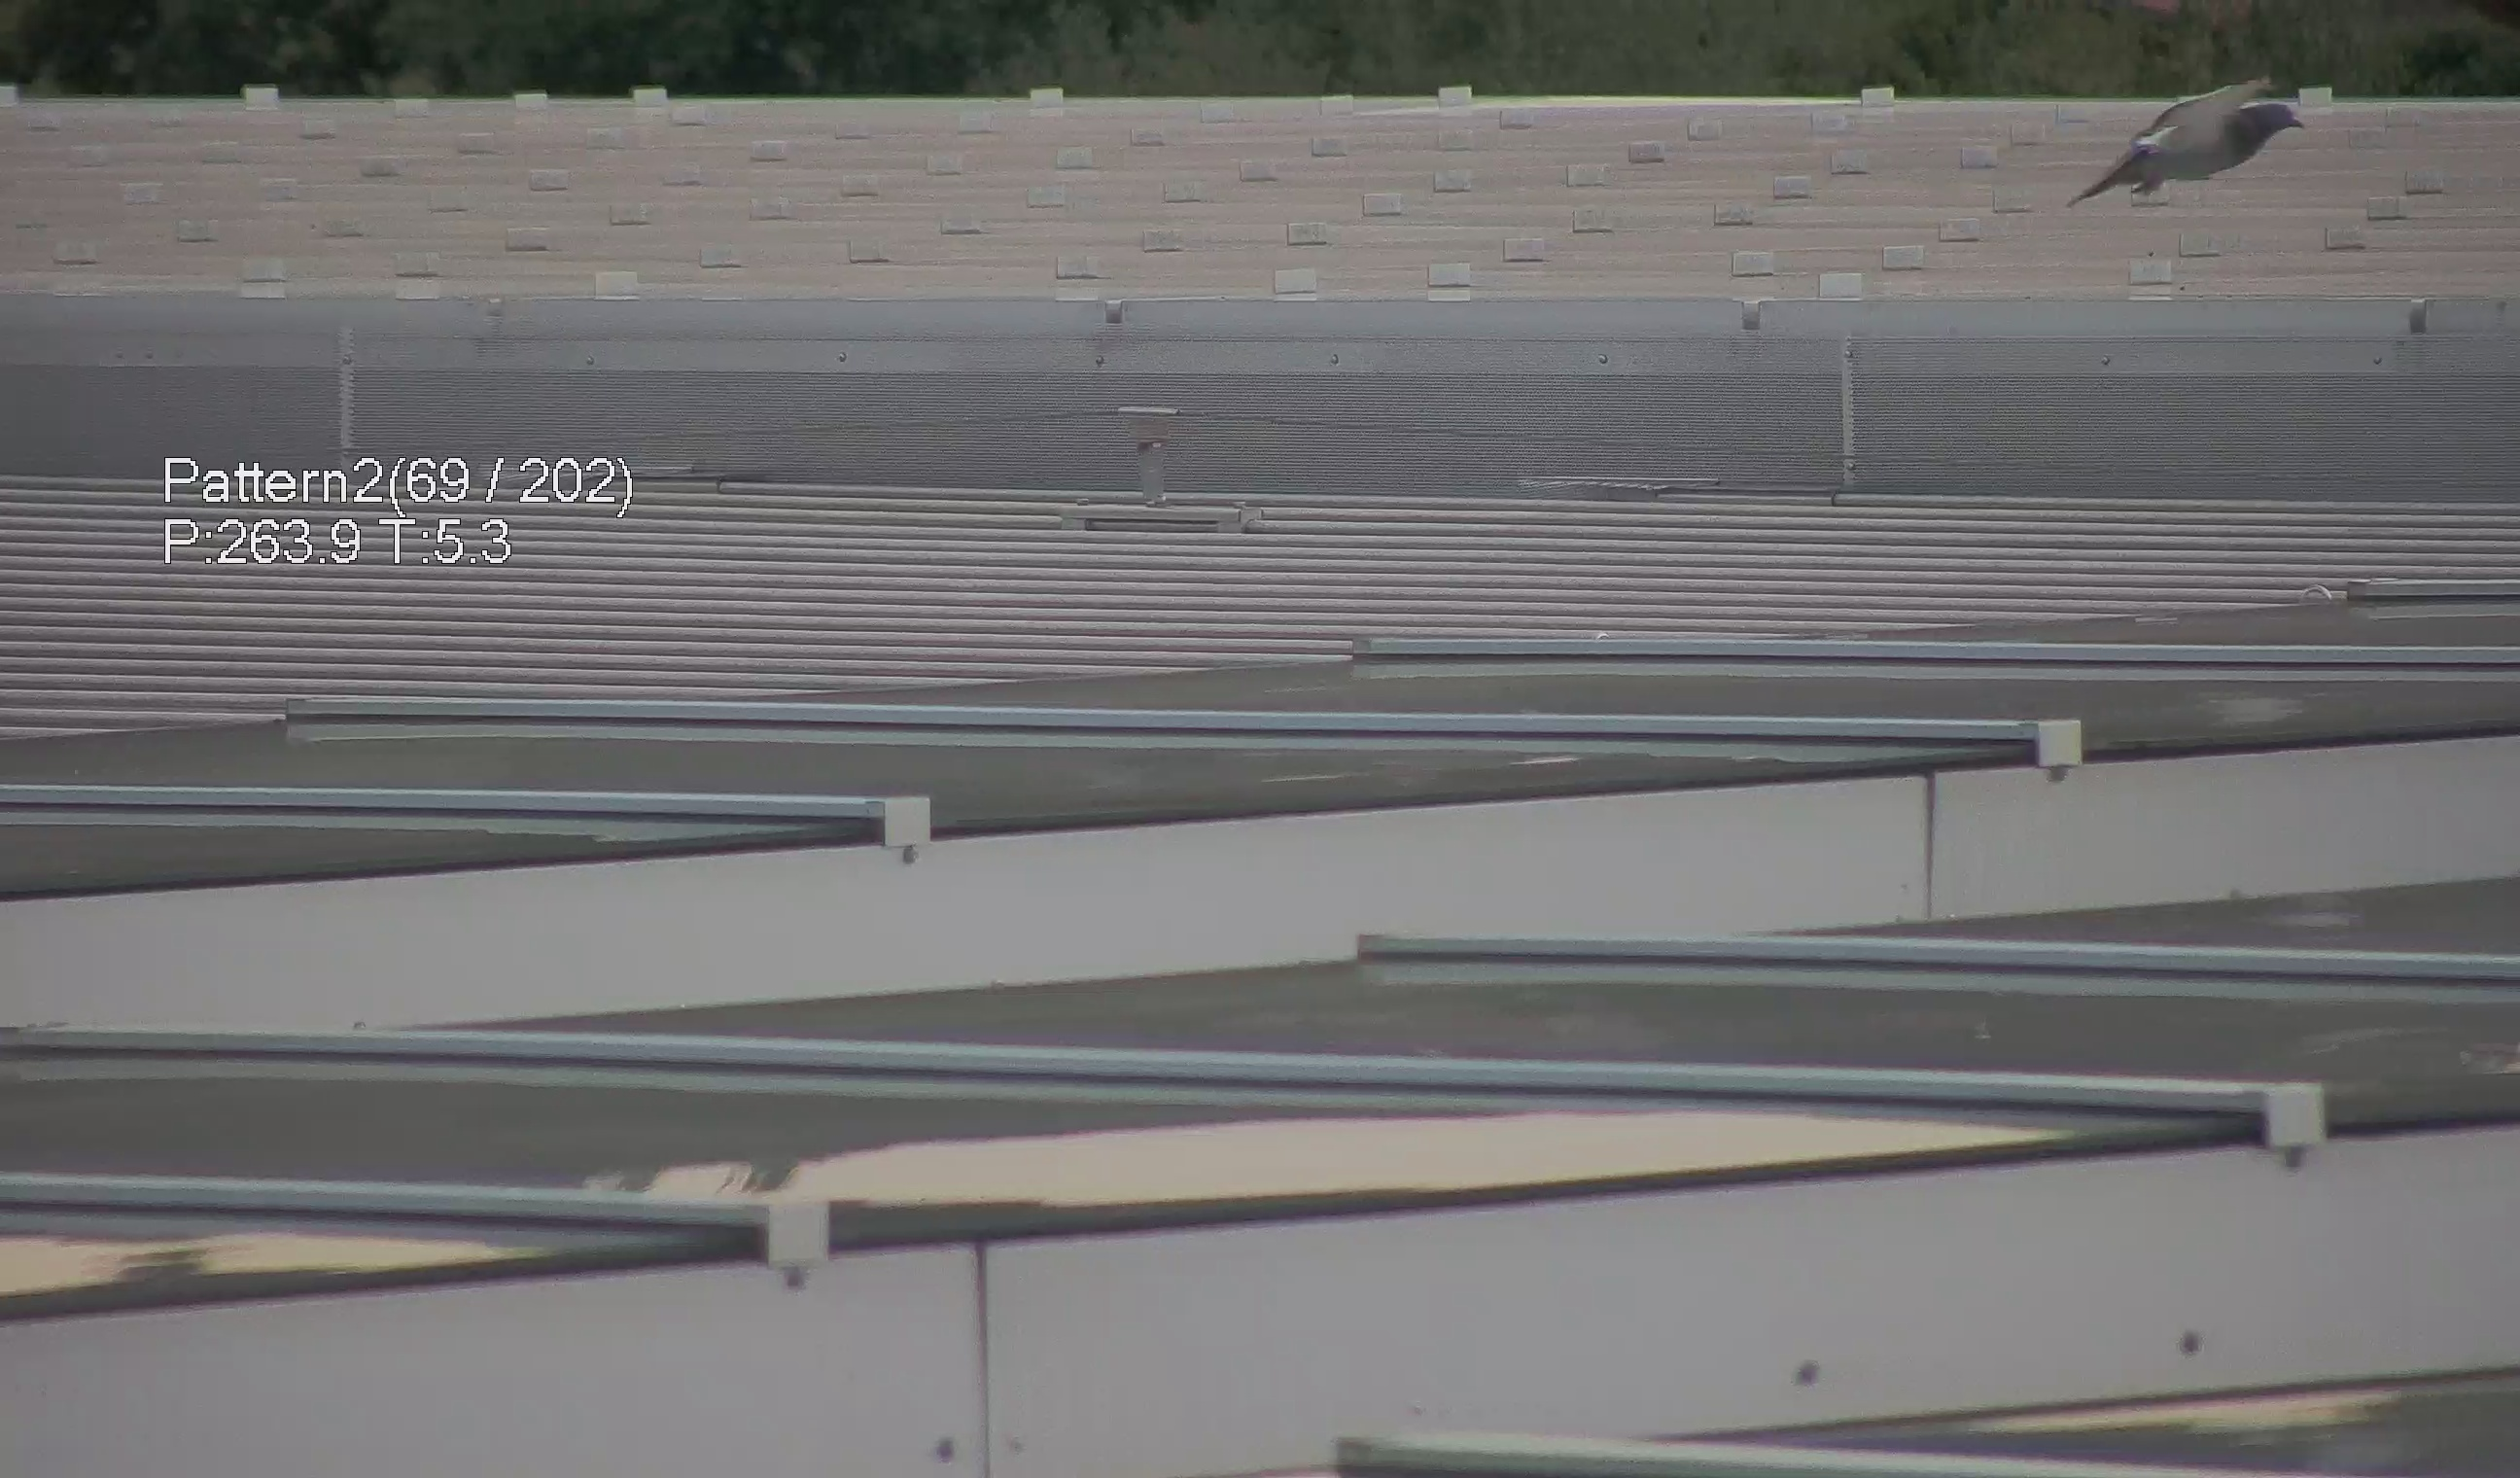Pigeon: (2093, 70, 2327, 209)
